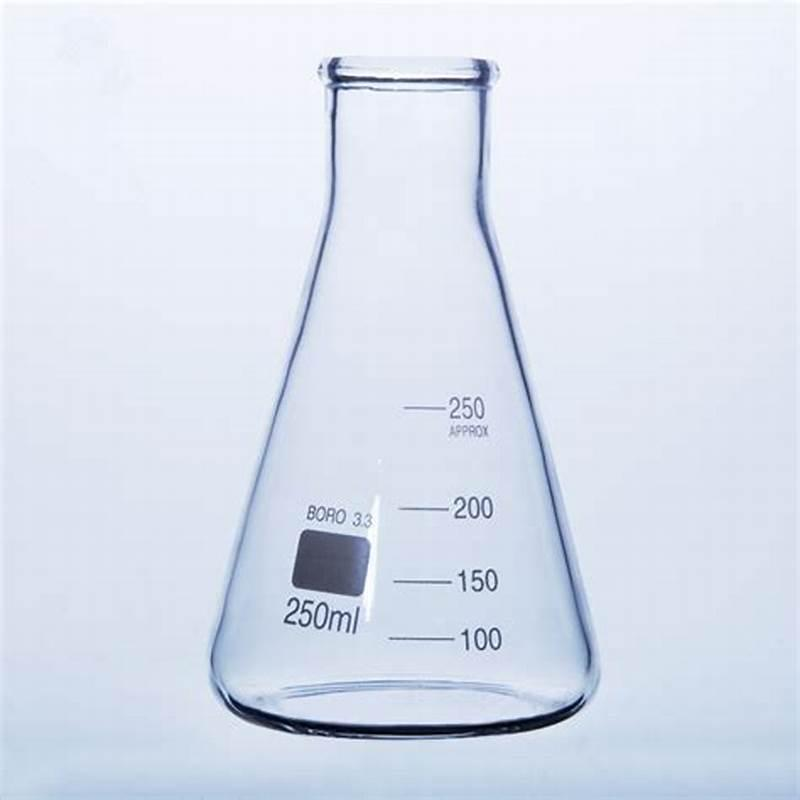Titrarion: (175, 37, 614, 737)
